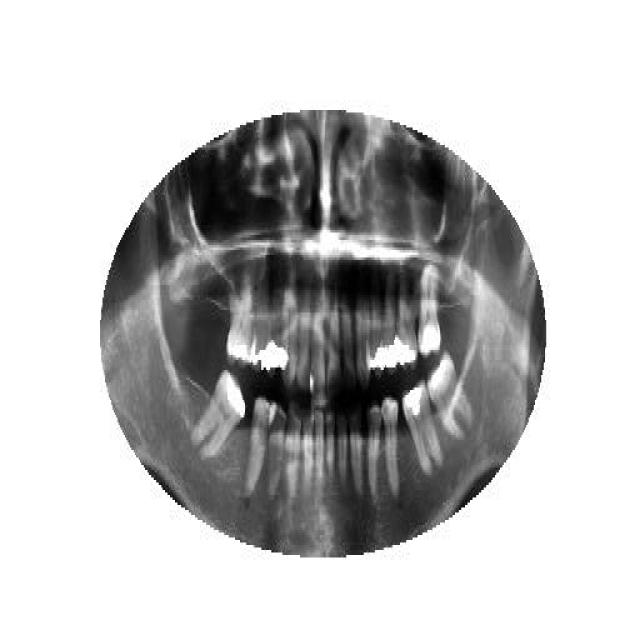Fillings: (192, 368, 246, 462), (402, 375, 442, 475), (398, 270, 422, 372), (419, 262, 441, 360), (251, 285, 274, 377), (382, 285, 398, 375), (272, 290, 288, 370), (371, 285, 384, 380)
